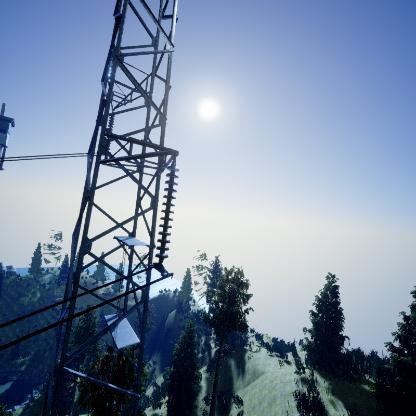insulator: (155, 164, 181, 261)
